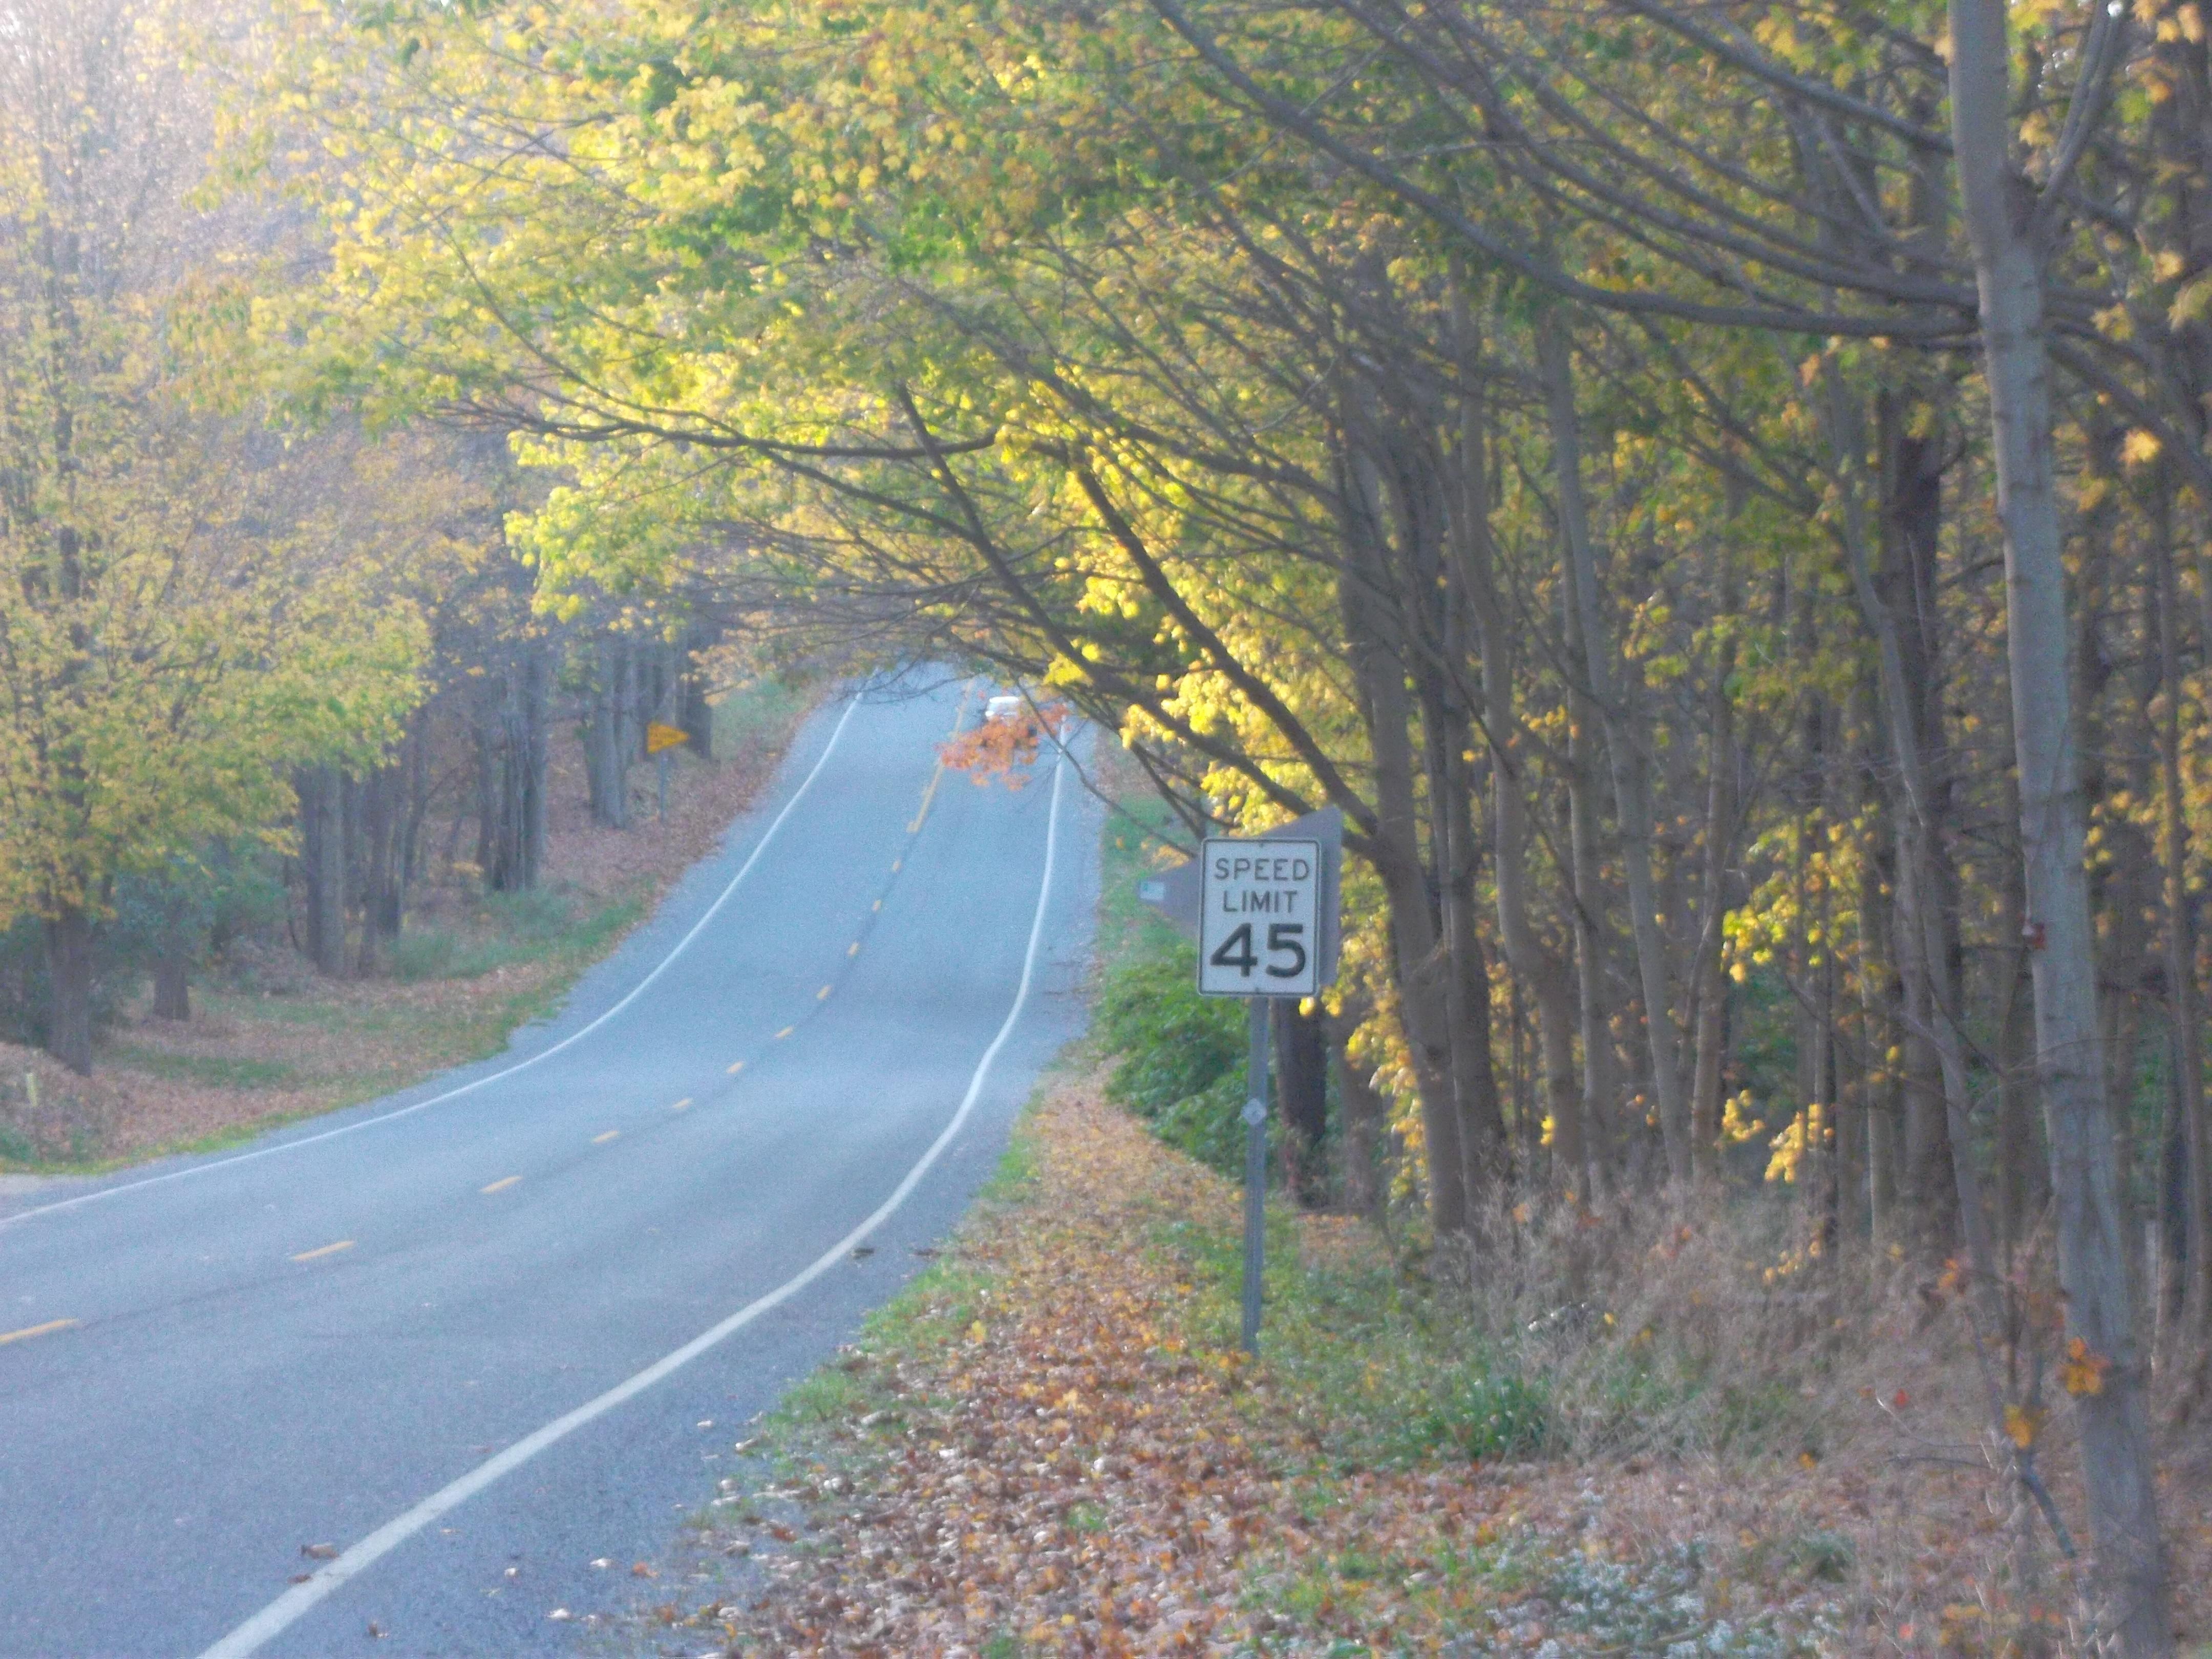regulatory: (1195, 835, 1324, 1004)
